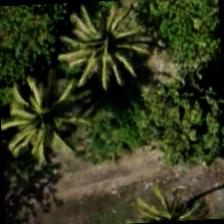Kelapa_Sawit: (0, 67, 93, 163), (57, 0, 152, 91)
